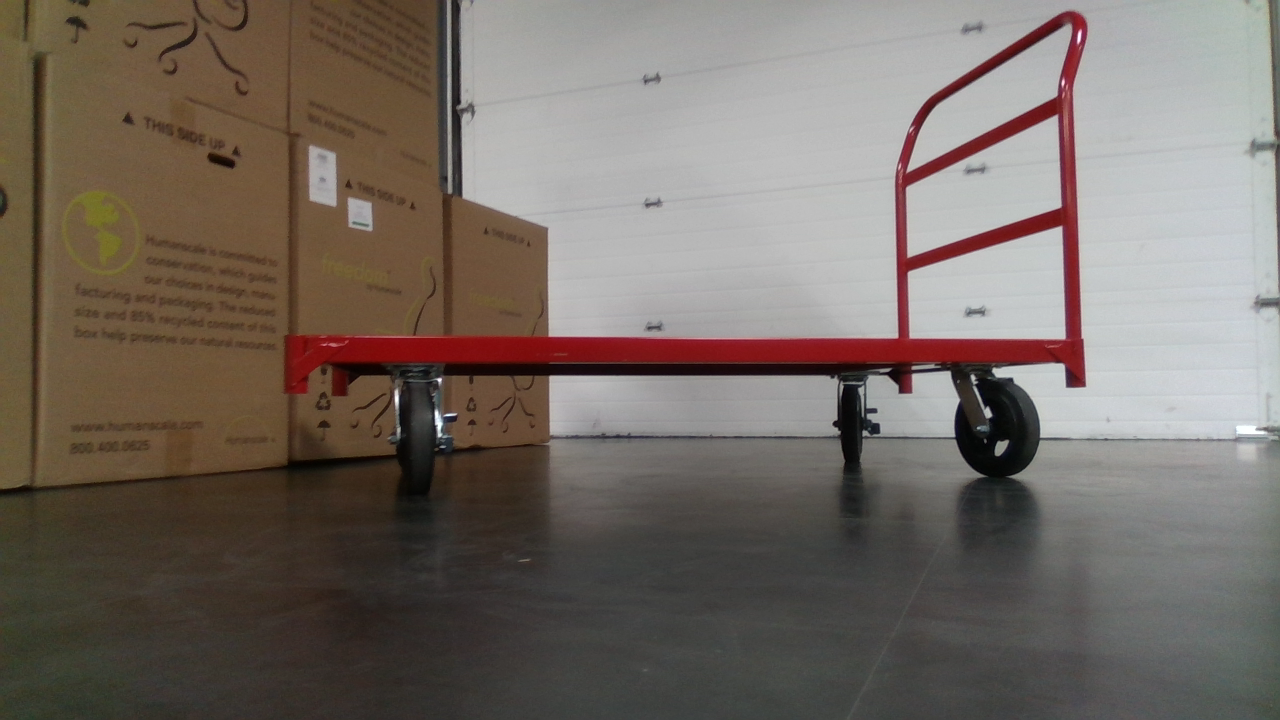Dolly: (275, 12, 1110, 500)
Wheel: (942, 378, 1047, 481), (378, 388, 458, 497), (821, 379, 885, 464)
